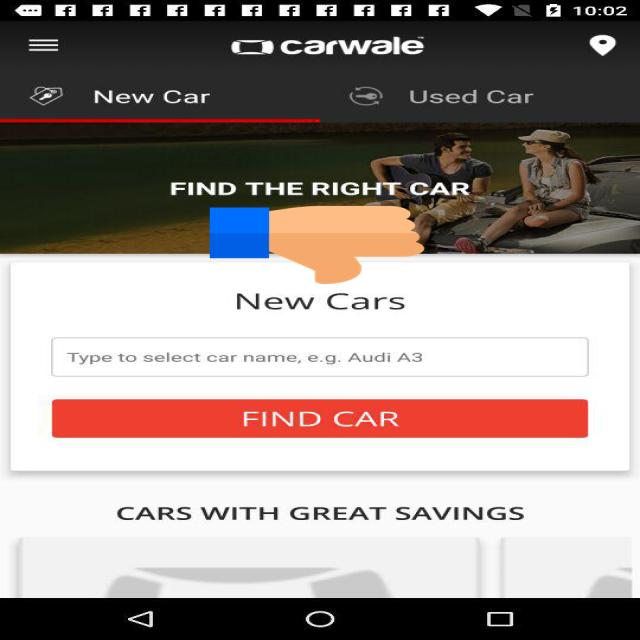obstruction: (210, 204, 424, 286)
